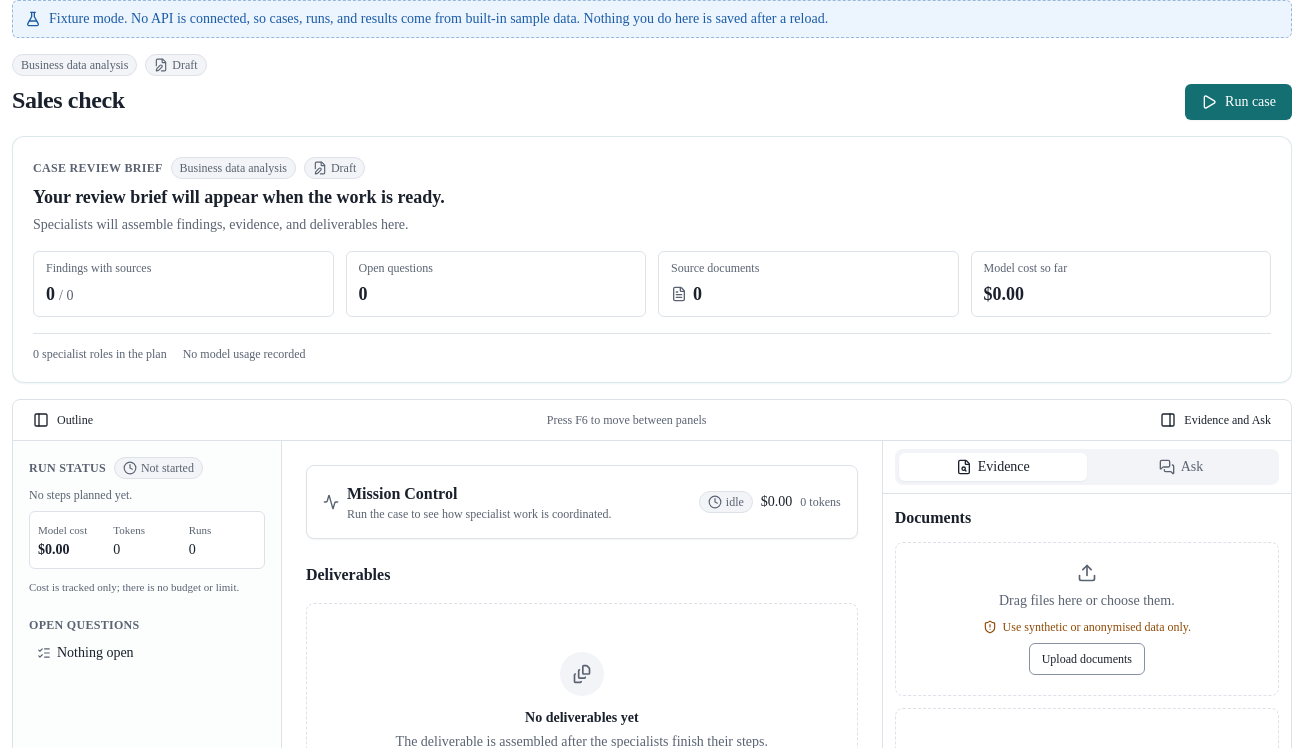
Test: CaseWorkspace › runs a new case without documents and streams progress to completion
The width and height of the screenshot is (1304, 748).
Click the button "Run case" at {"x": 1239, "y": 102}, box [1185,84,1292,120]
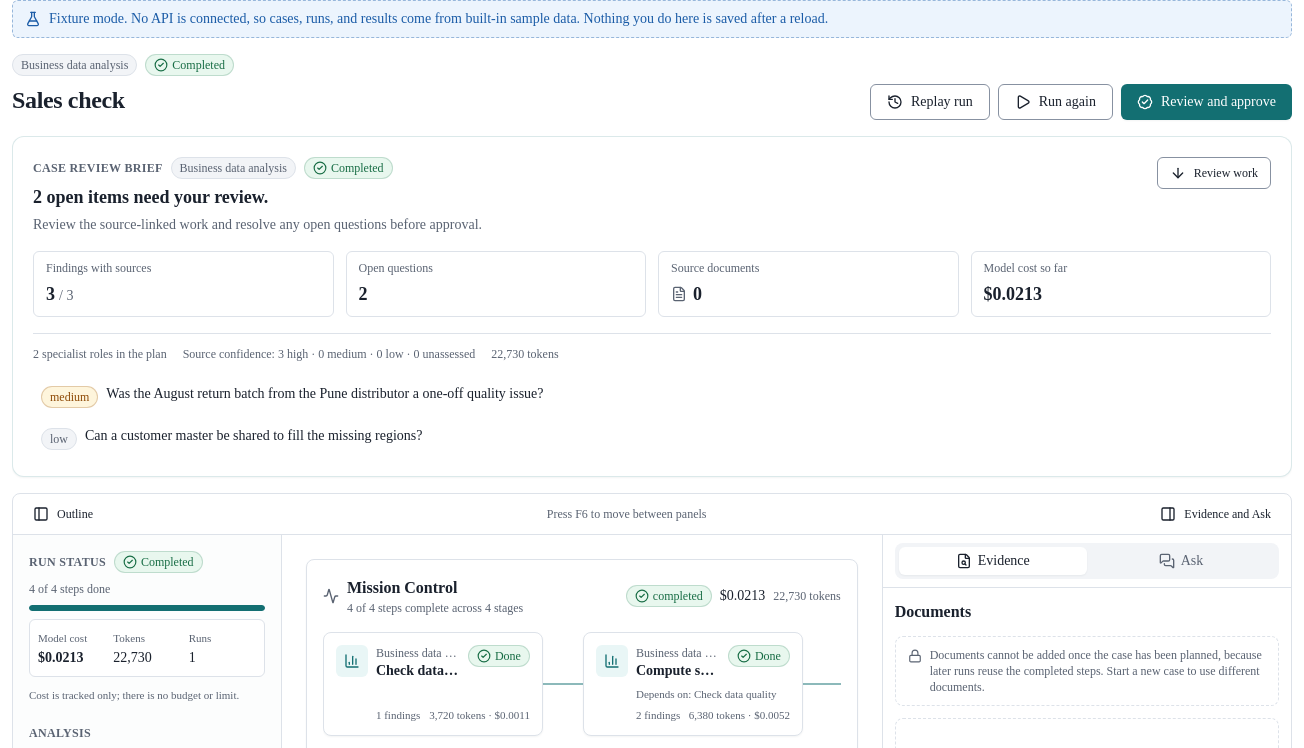
expect the element named "Business data analyst: Done. Compute sales metrics and trend" is shown: met, box [583,632,803,736]
expect the text "4 of 4 steps done" is shown: met, box [29,582,110,596]
expect the text with test id "running-cost" reads "$0.0213": met, box [38,650,84,665]
